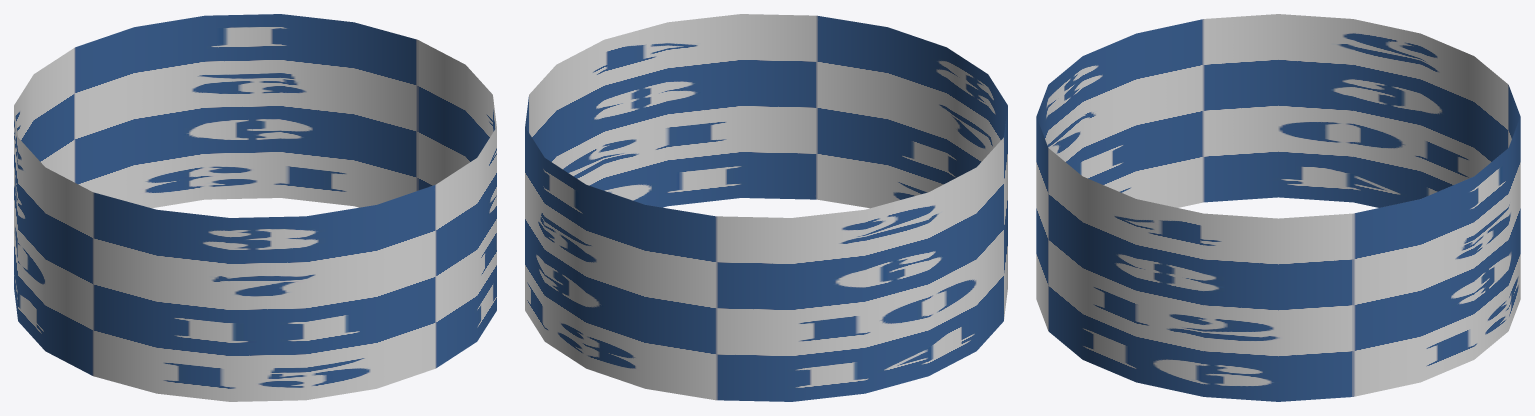
File: Ring21.fbx
The picture shows the model from 3 angles, left to right: view 1: azimuth 30°, elevation 25°; view 2: azimuth 150°, elevation 25°; view 3: azimuth 270°, elevation 25°; orthographic projection.
Parts seen in each view (by area): view 1: SM_e_Cmn_Cylinder001; view 2: SM_e_Cmn_Cylinder001; view 3: SM_e_Cmn_Cylinder001.
Boxes of the visible parts, x1,y1,x2,y2 form: SM_e_Cmn_Cylinder001: (14, 14, 496, 401); SM_e_Cmn_Cylinder001: (525, 14, 1007, 401); SM_e_Cmn_Cylinder001: (1036, 14, 1520, 401).
Size of the model in its own units: 24 by 10.04 by 24.
